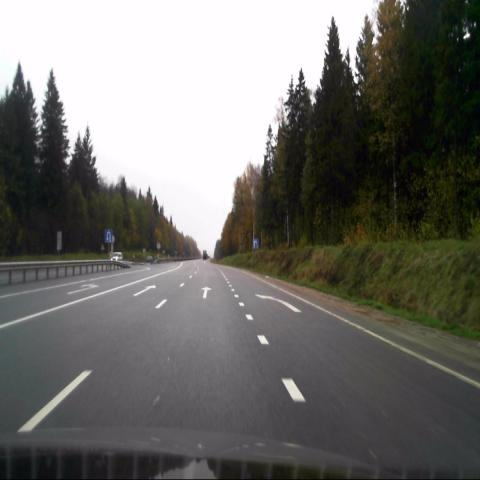6_3_1: (106, 229, 112, 243)
